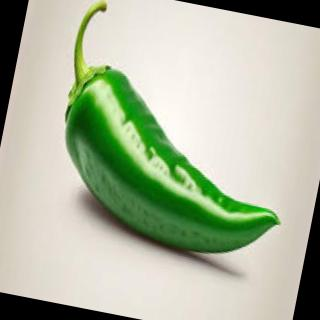Cabai Hijau: (46, 63, 303, 268)
